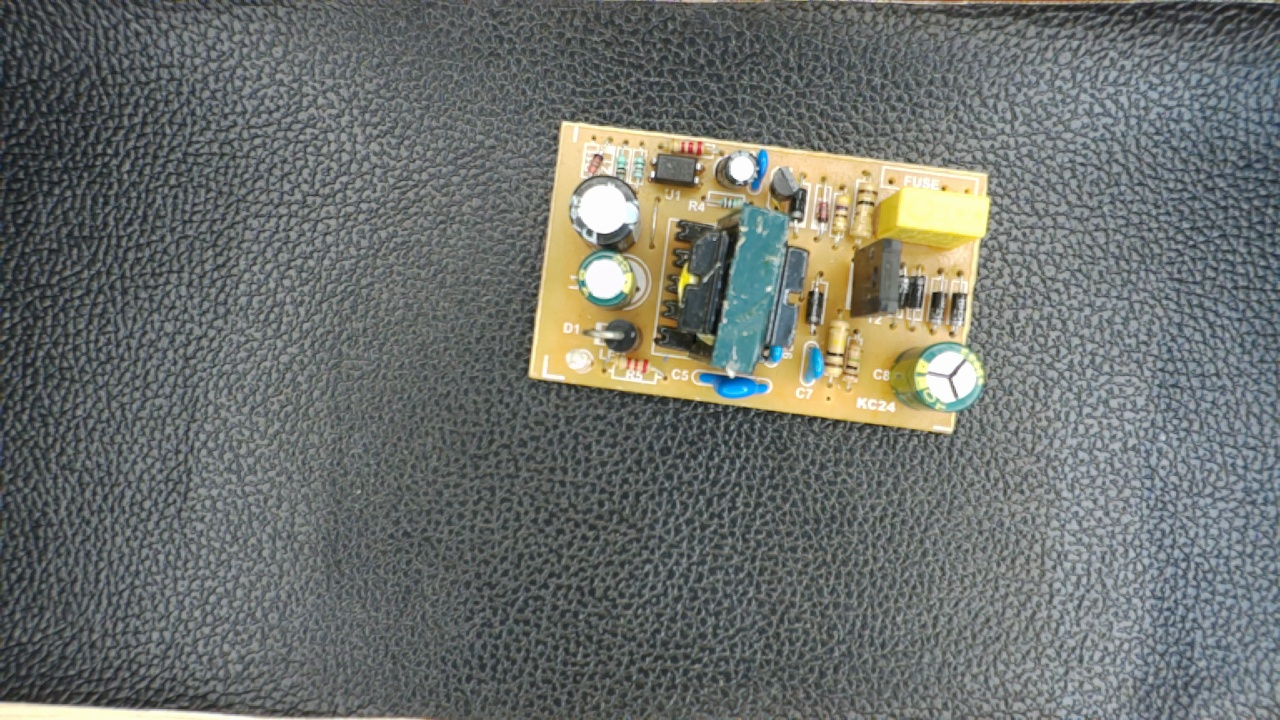hv_capacitor: (888, 338, 984, 414)
mov: (692, 368, 773, 401)
optocoupler: (647, 149, 707, 191)
